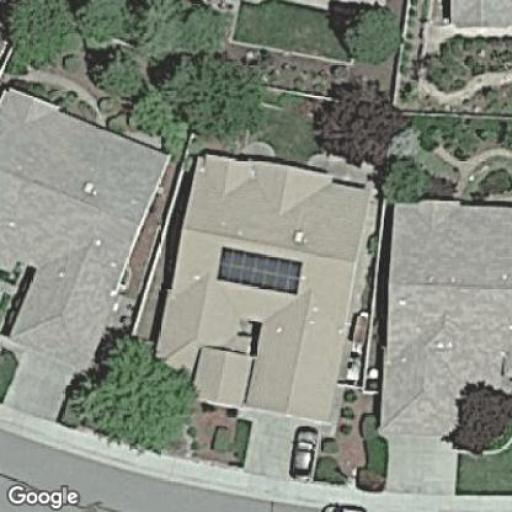solar-panel: (213, 246, 304, 297)
